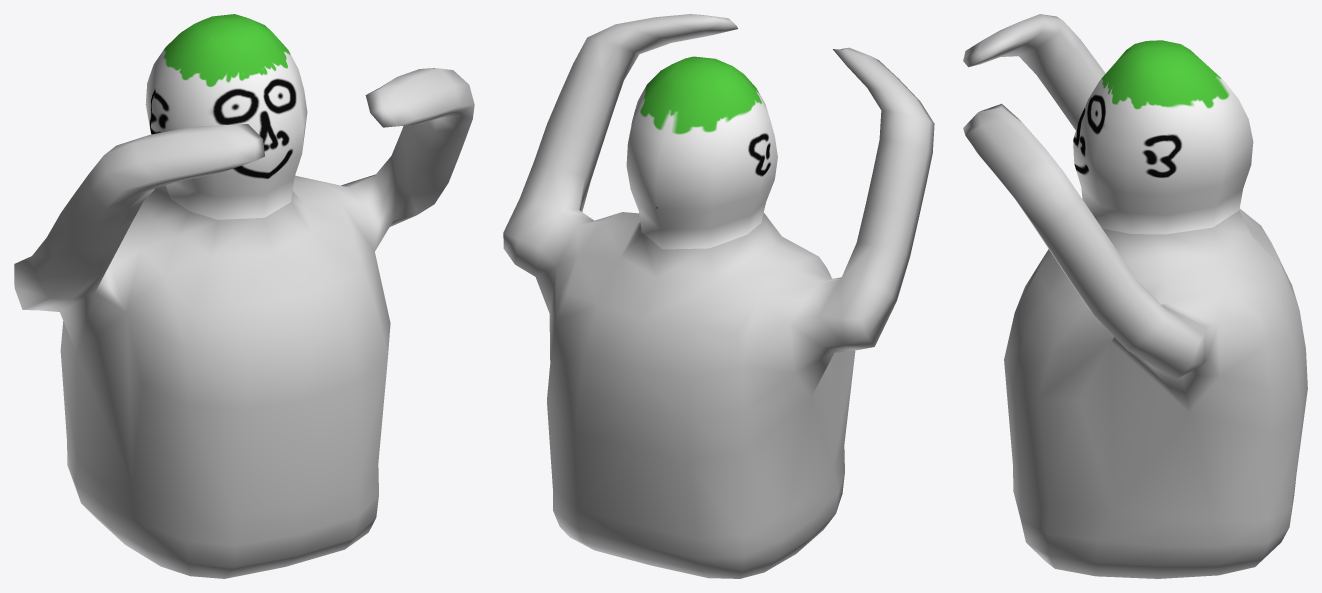
File: Child.fbx
3 renders of one model, left to right at view 1: azimuth 30°, elevation 25°; view 2: azimuth 150°, elevation 25°; view 3: azimuth 270°, elevation 25°, orthographic. The views are drawn at different scales.
Visible parts, largest first — view 1: CrowdPerson; view 2: CrowdPerson; view 3: CrowdPerson.
Boxes of the visible parts, x1,y1,x2,y2 form: CrowdPerson: [14, 14, 474, 578]; CrowdPerson: [503, 14, 934, 578]; CrowdPerson: [963, 14, 1307, 578].
Size of the model in its own units: 282 by 355 by 221.
